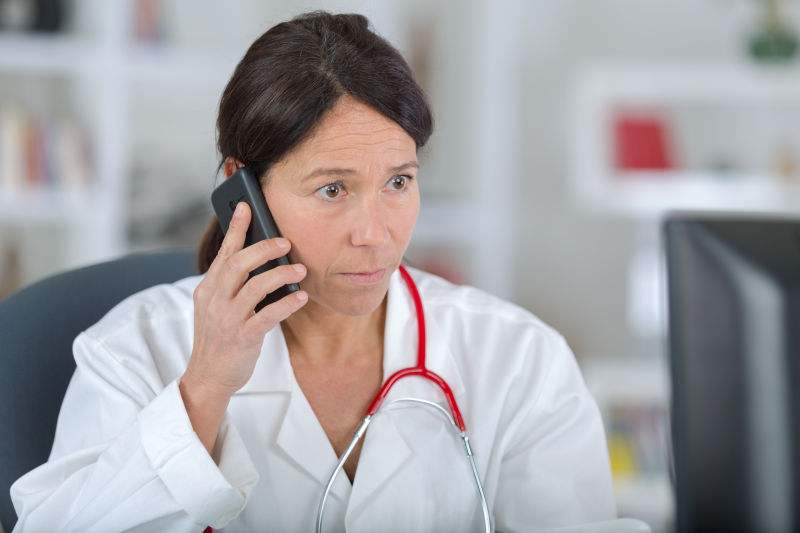calling: (190, 165, 310, 390)
